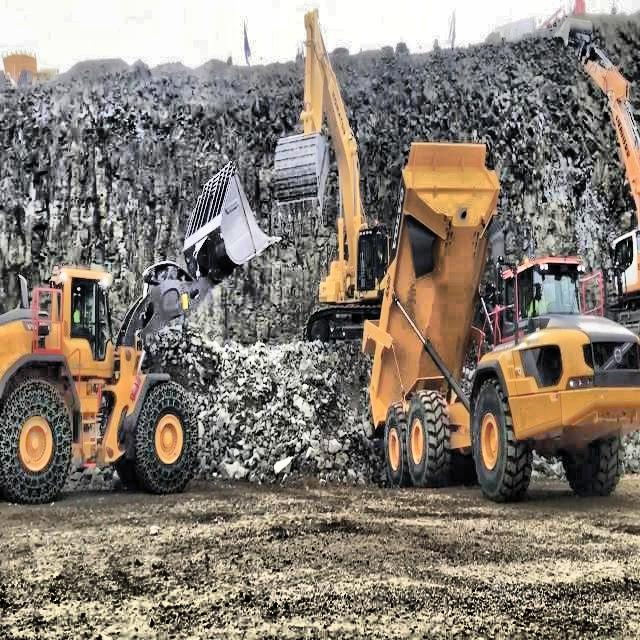bull_dozer/loader/grader: (0, 157, 282, 502)
dump_truck: (358, 130, 640, 500)
excavator: (272, 4, 394, 344), (554, 13, 640, 322)
